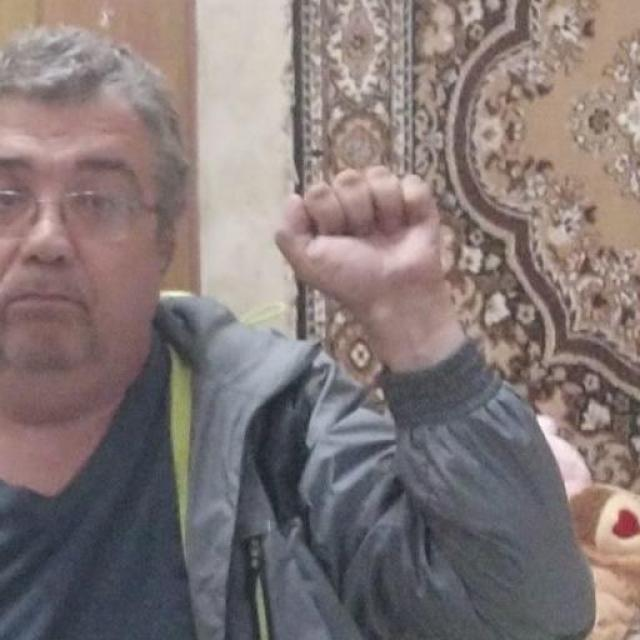hand: (273, 163, 467, 375)
